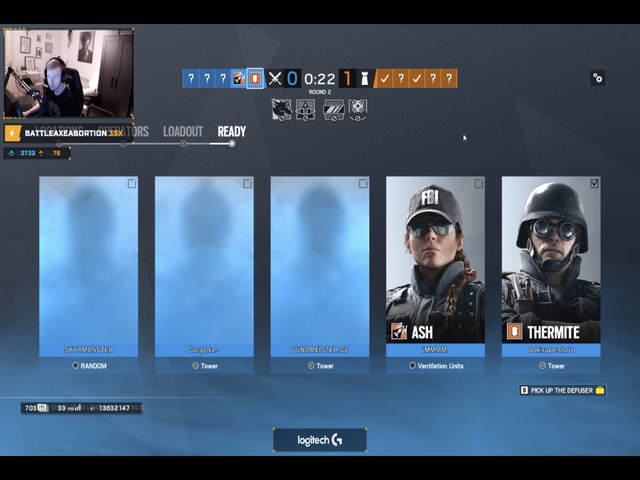0_blue: (283, 66, 301, 90)
